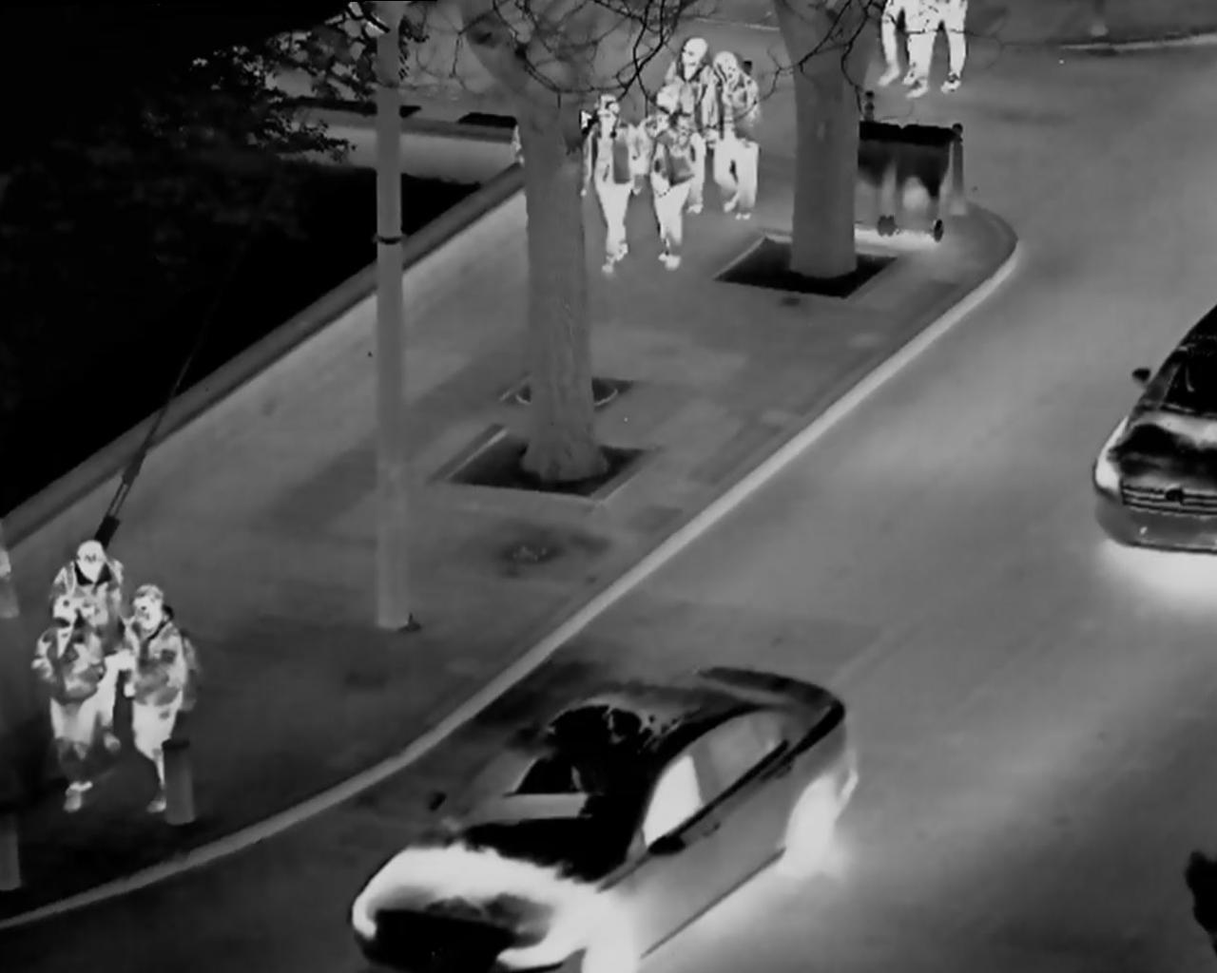person: (29, 592, 110, 844), (48, 535, 133, 754), (118, 584, 205, 788), (637, 85, 709, 274), (706, 42, 769, 220), (582, 84, 640, 265), (663, 30, 714, 217)
